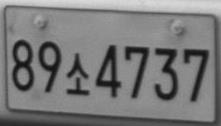3: (153, 46, 178, 101)
4: (95, 43, 121, 97)
7: (182, 47, 209, 102), (124, 45, 150, 99)
8: (10, 38, 34, 91)
9: (37, 40, 62, 92)
소: (65, 51, 90, 95)
